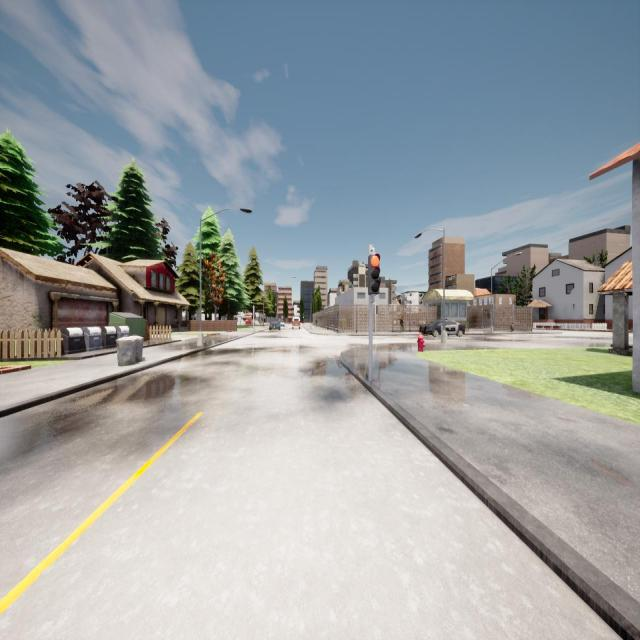Pedestrian: (400, 314, 404, 332), (510, 322, 514, 332), (315, 319, 317, 328)
Vehicle: (420, 320, 465, 337), (269, 319, 280, 330), (292, 316, 300, 329), (280, 321, 284, 327)
traffic_light: (369, 255, 379, 294), (376, 305, 378, 314)
